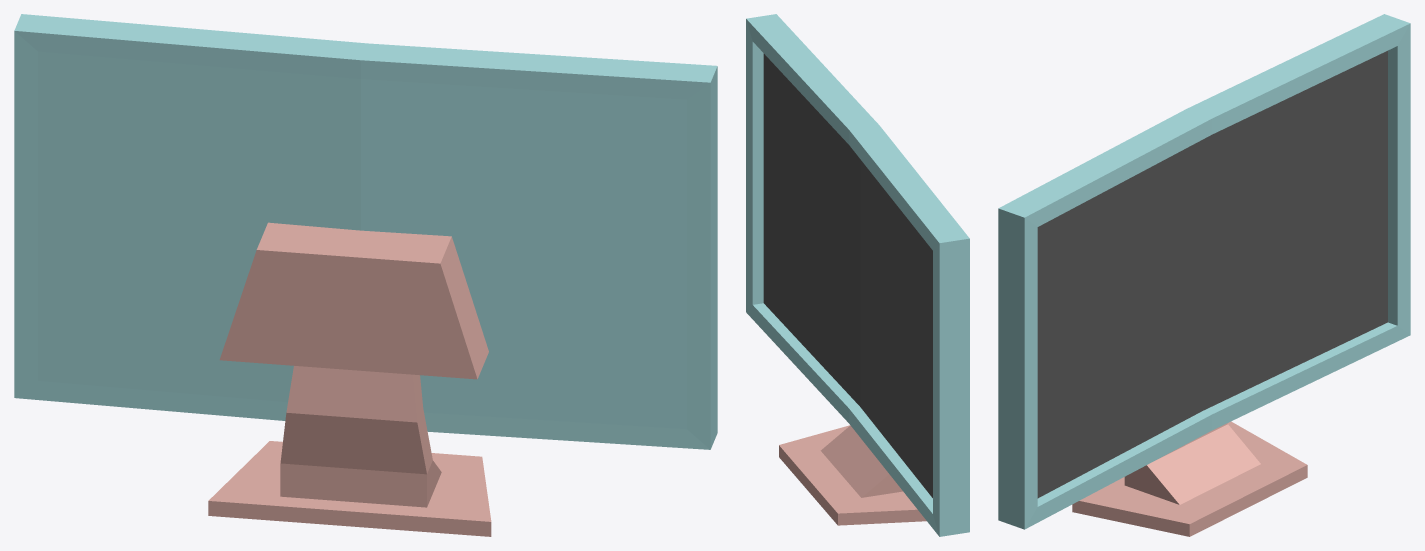
File: MesaPMonitorB.fbx
3 views of the same model, side by side, from view 1: azimuth 30°, elevation 25°; view 2: azimuth 150°, elevation 25°; view 3: azimuth 270°, elevation 25° (orthographic). The views are drawn at different scales.
Parts seen in each view (by area): view 1: TelaPCA.003; view 2: TelaPCA.003; view 3: TelaPCA.003.
Boxes of the visible parts, bbox=[...] form: TelaPCA.003: bbox=[14, 14, 717, 536]; TelaPCA.003: bbox=[746, 14, 969, 536]; TelaPCA.003: bbox=[998, 14, 1410, 536].
Size of the model in its own units: 52.17 by 44.96 by 44.61.
